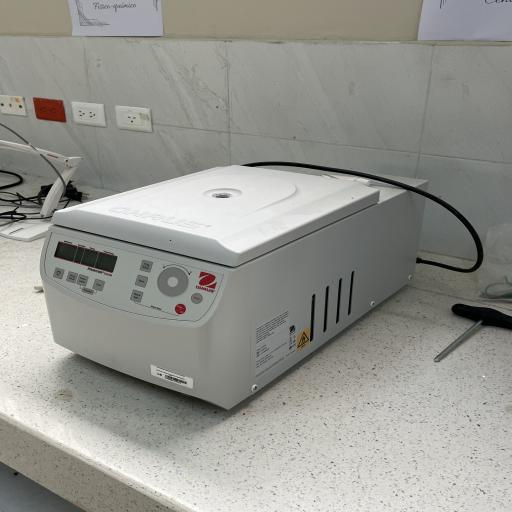Centrifuga_Ohaus_Frontier: (35, 159, 441, 418)
